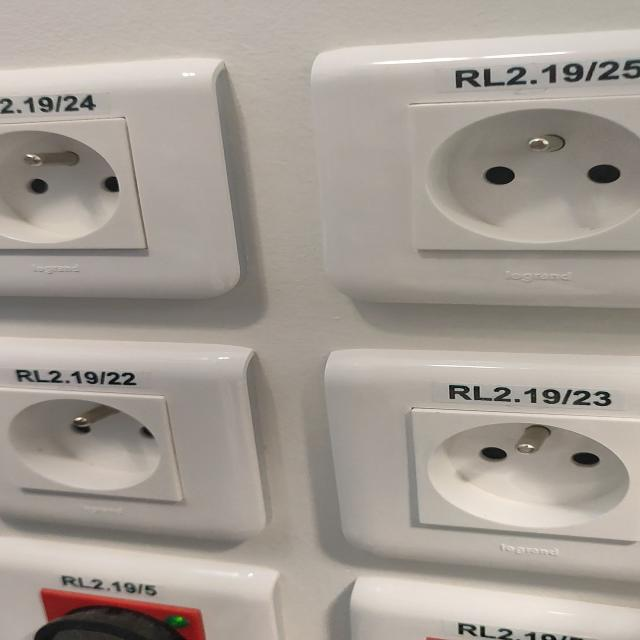house plug: (404, 95, 640, 251), (412, 408, 640, 545), (0, 119, 147, 250)
